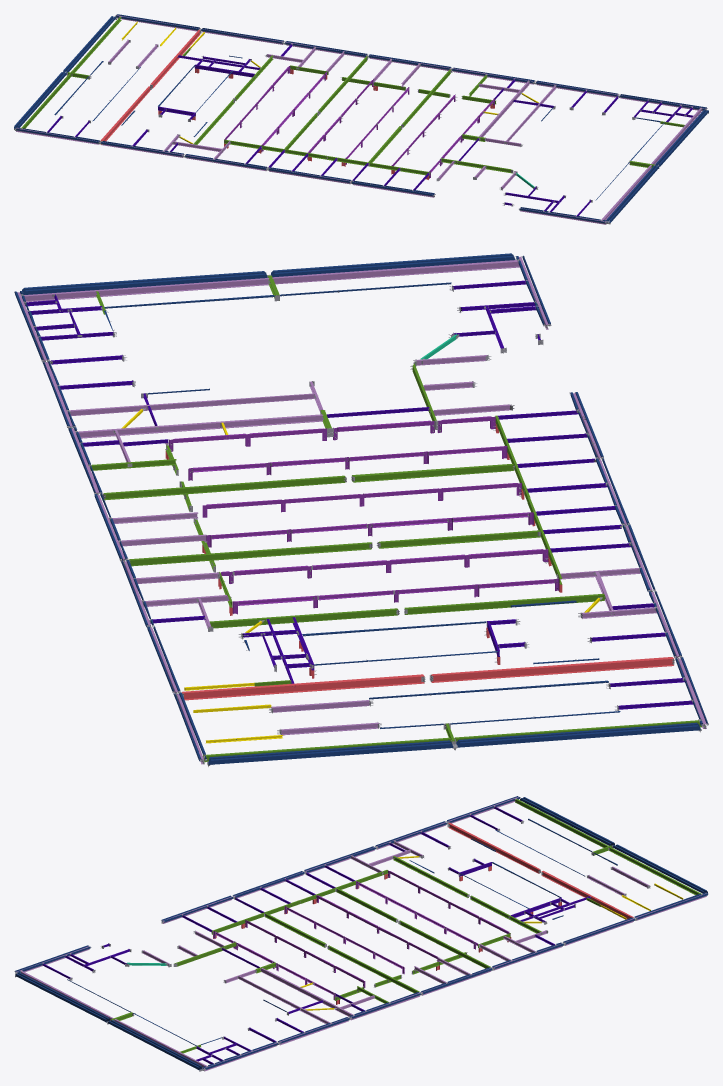
File: Lot 3.glb
The picture shows the model from 3 angles, top to bottom: view 1: azimuth 30°, elevation 25°; view 2: azimuth 150°, elevation 25°; view 3: azimuth 270°, elevation 25°; orthographic projection. The views are drawn at different scales.
Visible parts, largest first — view 1: Fake; view 2: Fake; view 3: Fake.
Part boxes in pixels (box(x1,y1,x2,y2)): Fake: box(14, 14, 708, 224); Fake: box(14, 253, 708, 766); Fake: box(14, 796, 708, 1071).
Bounding box in the file's own units: 37.44 × 0.805 × 40.22.
